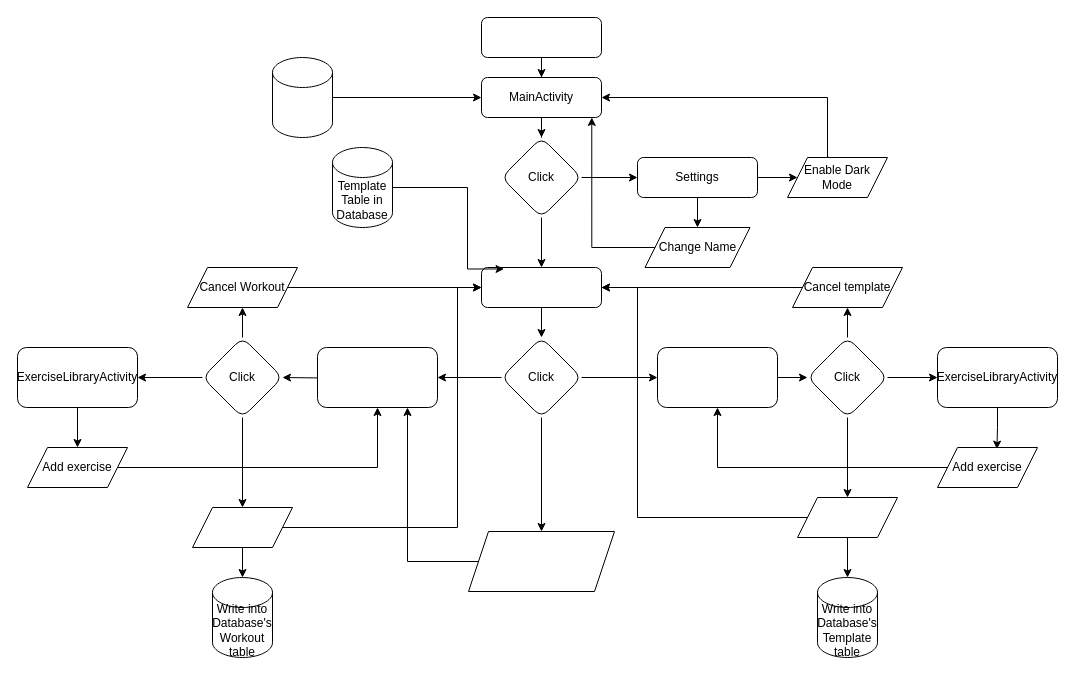
Image size: 1075x676. Some labels were removed from this diagram. The box of each missing label's shape, as (x1, y1, x2, y2) in pixels:
Finish Template: (796, 496, 898, 538)
Finish Workout: (192, 506, 292, 548)
NewTemplateActivity: (656, 346, 778, 408)
NewWorkoutActivity: (316, 346, 438, 408)
User opens app: (480, 16, 602, 58)
Uses a template: (468, 530, 614, 592)
Workout Table in Database: (272, 56, 332, 138)
Workouts: (480, 266, 602, 308)
